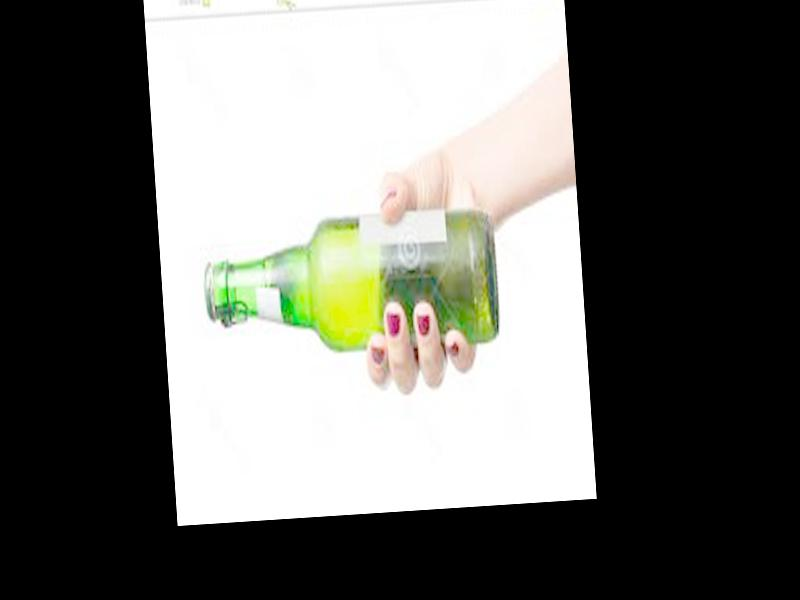Beer: (199, 202, 500, 369)
